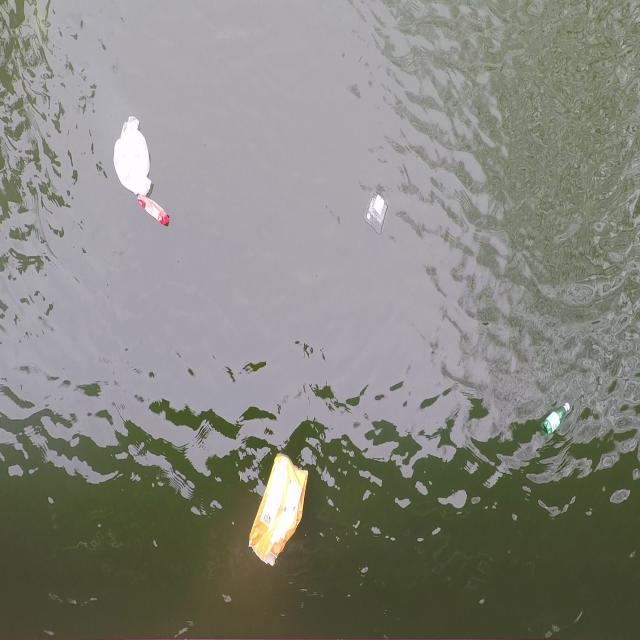Autre plastique: (362, 192, 389, 238)
Bouteille plastique: (538, 401, 572, 439)
Sac plastique: (245, 453, 313, 575), (110, 114, 154, 196)
